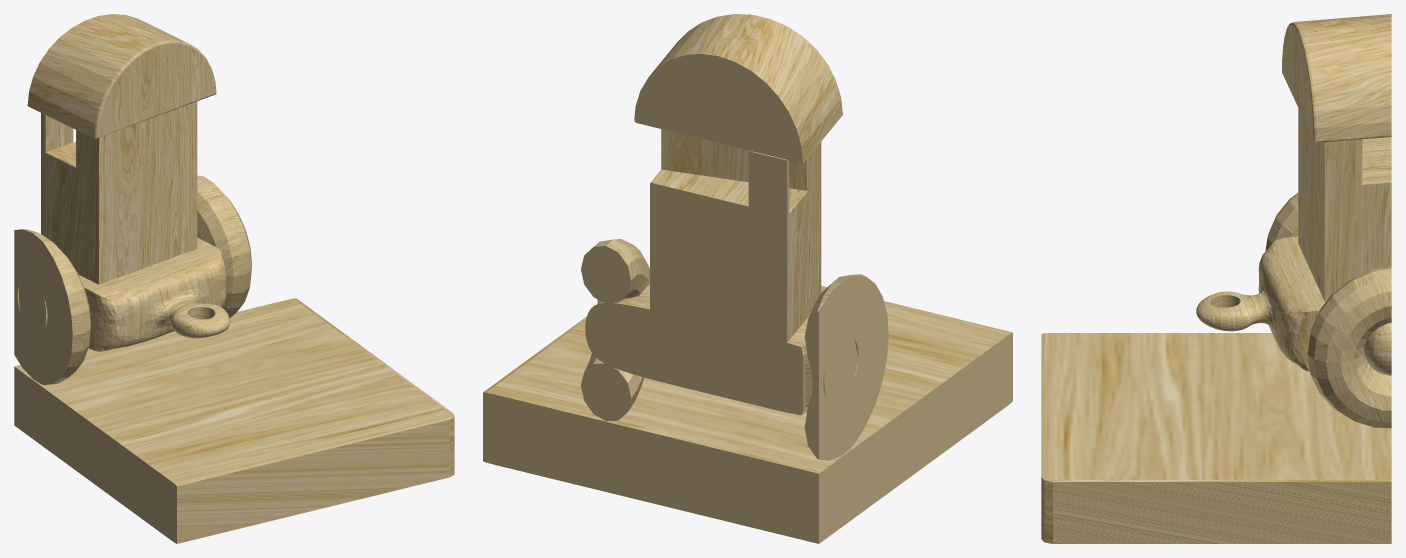
File: 8_Holzbahn.fbx
3 views of the same model, side by side, from view 1: azimuth 30°, elevation 25°; view 2: azimuth 150°, elevation 25°; view 3: azimuth 270°, elevation 25° (orthographic). The views are drawn at different scales.
Visible parts, largest first — view 1: Cube.017, Cube.064, Cube.071, Cube.067, Cube.065, Cube.066; view 2: Cube.017, Cube.064, Cube.071, Cube.067, Cube.065, Cube.066; view 3: Cube.017, Cube.064, Cube.071, Cube.066, Cube.067, Cube.065.
Part boxes in pixels (bbox=[...]): Cube.017: bbox=[14, 298, 454, 543]; Cube.064: bbox=[41, 101, 197, 284]; Cube.071: bbox=[27, 14, 216, 138]; Cube.067: bbox=[19, 237, 230, 351]; Cube.065: bbox=[14, 229, 90, 384]; Cube.066: bbox=[197, 175, 251, 318]; Cube.017: bbox=[483, 285, 1012, 543]; Cube.064: bbox=[650, 129, 821, 343]; Cube.071: bbox=[634, 14, 842, 163]; Cube.067: bbox=[585, 283, 856, 415]; Cube.065: bbox=[804, 274, 888, 460]; Cube.066: bbox=[581, 239, 649, 421]; Cube.017: bbox=[1041, 333, 1391, 543]; Cube.064: bbox=[1298, 108, 1391, 301]; Cube.071: bbox=[1282, 14, 1391, 142]; Cube.066: bbox=[1307, 266, 1391, 428]; Cube.067: bbox=[1196, 236, 1391, 375]; Cube.065: bbox=[1265, 193, 1298, 251].
Size of the model in its own units: 500 by 659 by 500.
